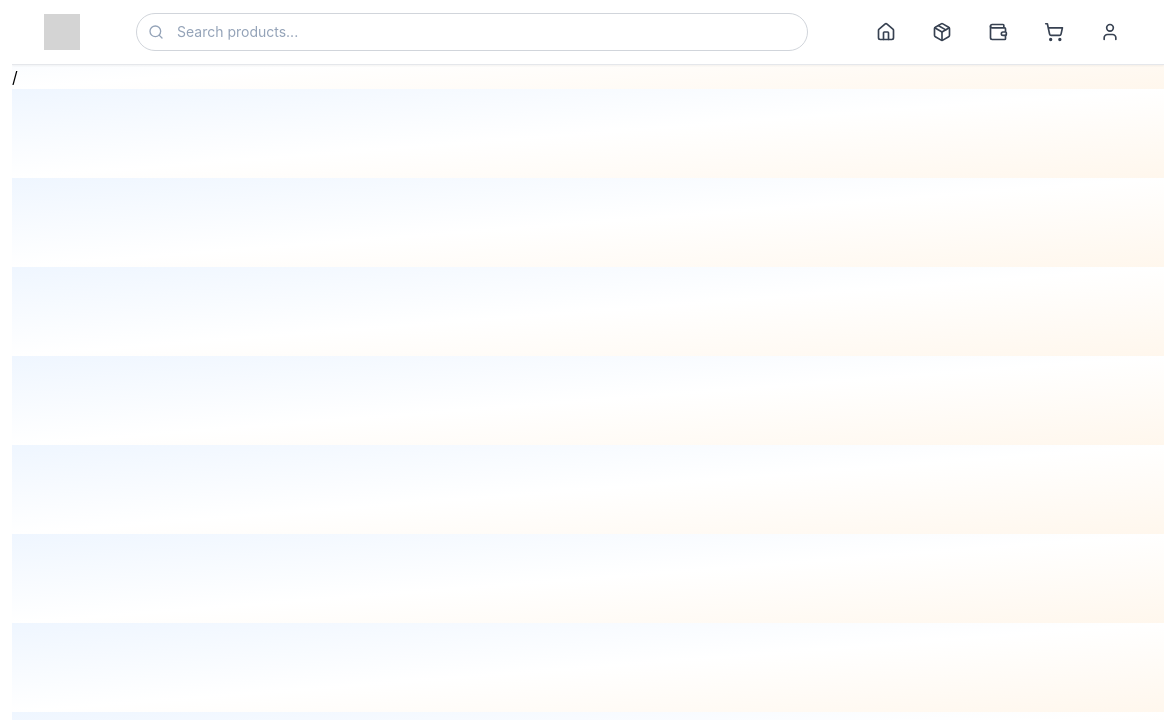
Scenario: Navbar cart badge › navigates to the search page when a recent search is selected
Focus the field with placeholder "Search products..." at {"x": 472, "y": 32}, box x1=136 y1=13 x2=808 y2=51
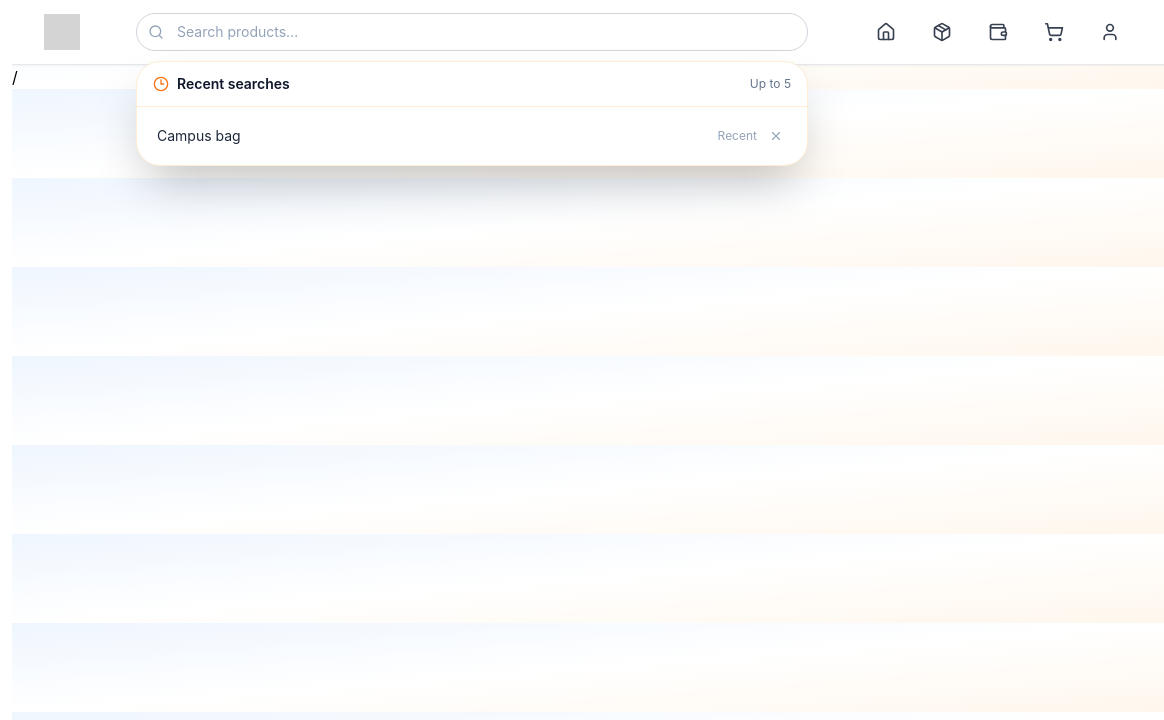
Click the button "Campus bag".
click(199, 135)  # box x1=157 y1=126 x2=706 y2=146
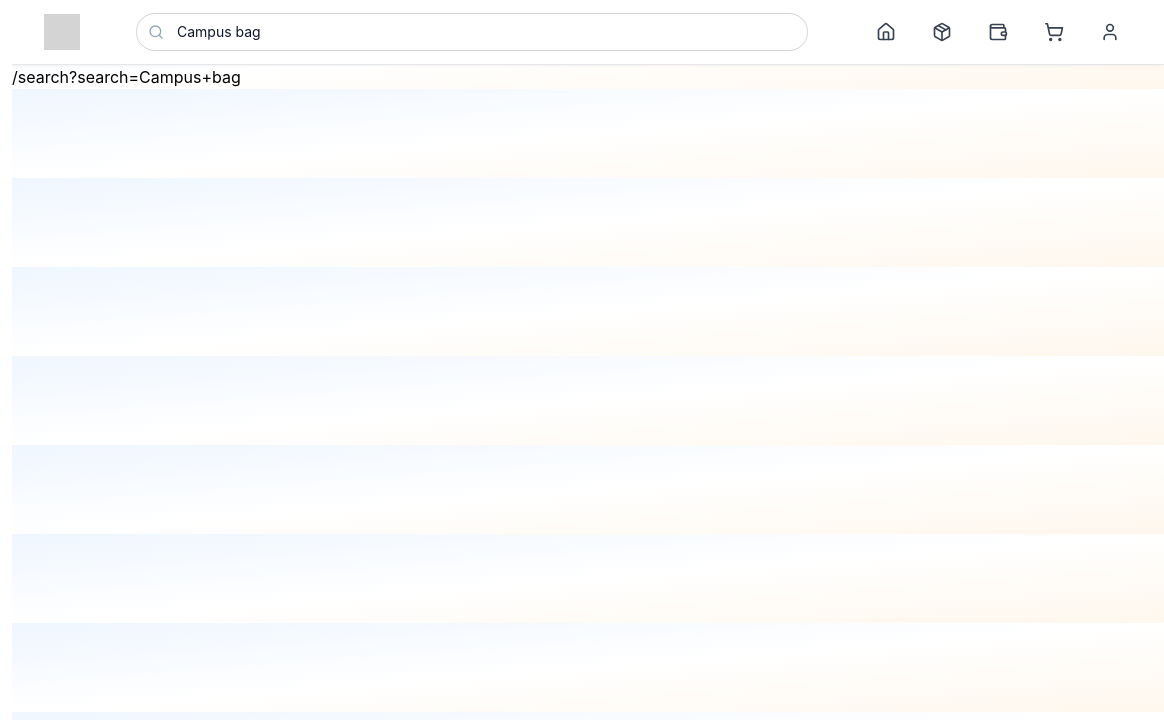
expect the text with test id "location-display" reads "/search?search=Campus+bag": met, box x1=12 y1=67 x2=241 y2=87
